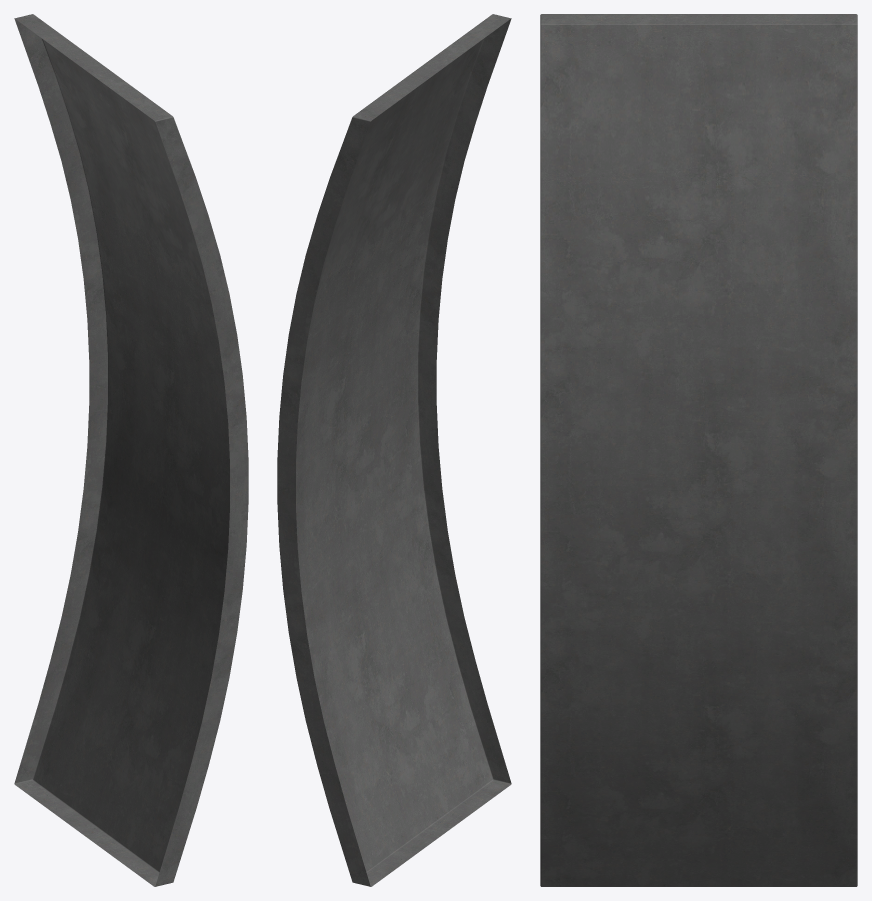
File: cP_Pathway04_06.dae
The picture shows the model from 3 angles, left to right: view 1: azimuth 30°, elevation 25°; view 2: azimuth 150°, elevation 25°; view 3: azimuth 270°, elevation 25°; orthographic projection. The views are drawn at different scales.
Parts seen in each view (by area): view 1: cP_Pathway04_06.001; view 2: cP_Pathway04_06.001; view 3: cP_Pathway04_06.001.
Boxes of the visible parts, bbox=[...] form: cP_Pathway04_06.001: bbox=[14, 14, 248, 886]; cP_Pathway04_06.001: bbox=[277, 14, 511, 886]; cP_Pathway04_06.001: bbox=[540, 14, 857, 886].
Bounding box in the file's own units: 1.54 × 4 × 12.01.
